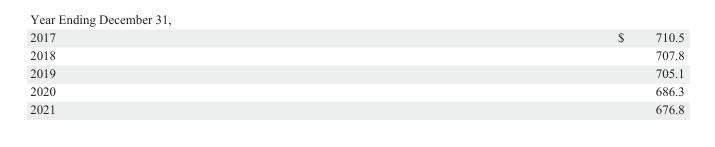table: (29, 29, 683, 115)
table column: (336, 29, 683, 115), (29, 29, 336, 115)
table row: (29, 45, 683, 63), (29, 63, 683, 81), (29, 81, 683, 99), (29, 29, 683, 45), (29, 99, 683, 115)
